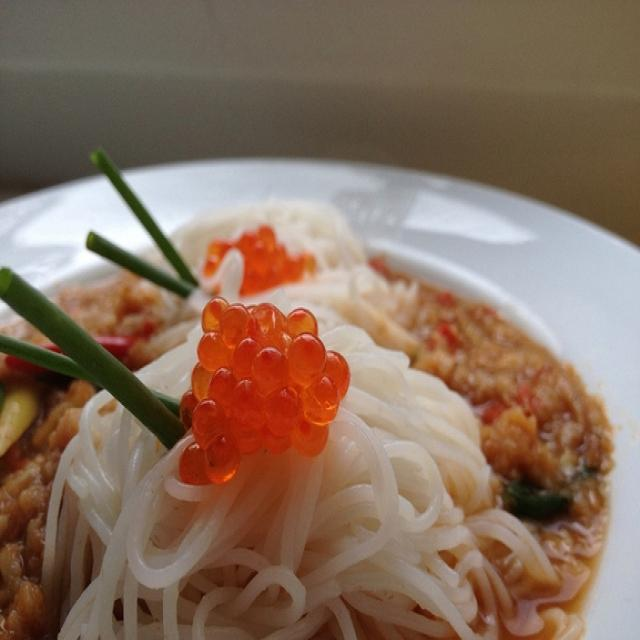面条主食: (11, 120, 619, 631)
